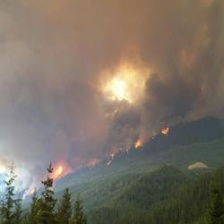fire: (36, 127, 179, 191), (105, 67, 147, 110)
